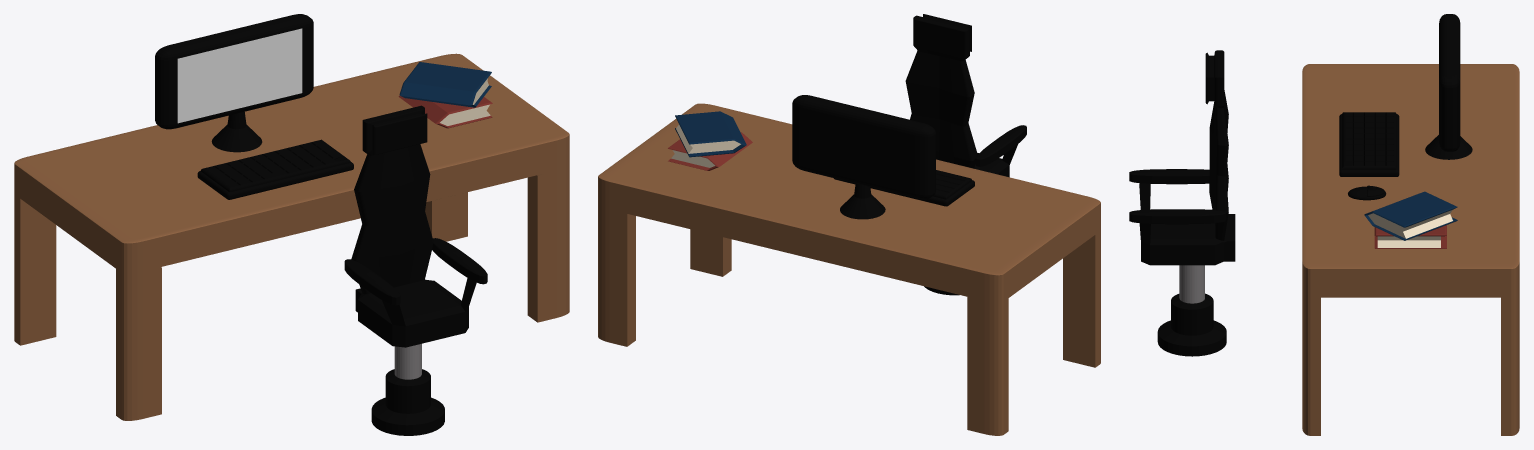
The model's file is computertable.fbx.
The picture shows the model from 3 angles, left to right: view 1: azimuth 30°, elevation 25°; view 2: azimuth 150°, elevation 25°; view 3: azimuth 270°, elevation 25°; orthographic projection. The views are drawn at different scales.
Parts seen in each view (by area): view 1: table, gamingchari, computer, books; view 2: table, computer, gamingchari, books; view 3: table, gamingchari, computer, books.
Part boxes in pixels (x1,y1,x2,y2): table: [14, 53, 569, 420]; gamingchari: [344, 105, 487, 435]; computer: [155, 14, 353, 199]; books: [398, 62, 492, 128]; table: [598, 103, 1100, 435]; computer: [792, 95, 974, 219]; gamingchari: [905, 14, 1026, 295]; books: [668, 111, 752, 170]; table: [1302, 64, 1519, 435]; gamingchari: [1129, 50, 1235, 356]; computer: [1339, 14, 1472, 200]; books: [1364, 191, 1457, 248].
Bounding box in the file's own units: 1168 × 742 × 938.
